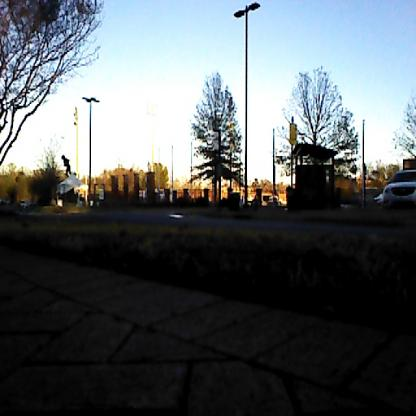Edge: (0, 213, 416, 335)
Sidewalk: (0, 237, 416, 416)
